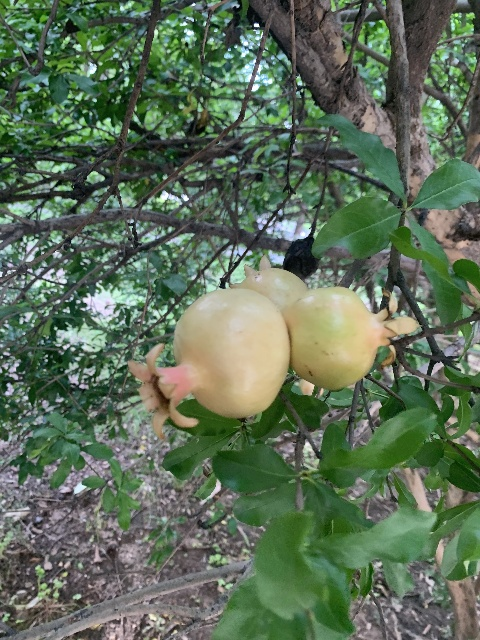mid-growth: (127, 289, 291, 440), (283, 286, 417, 390), (229, 254, 310, 319)
